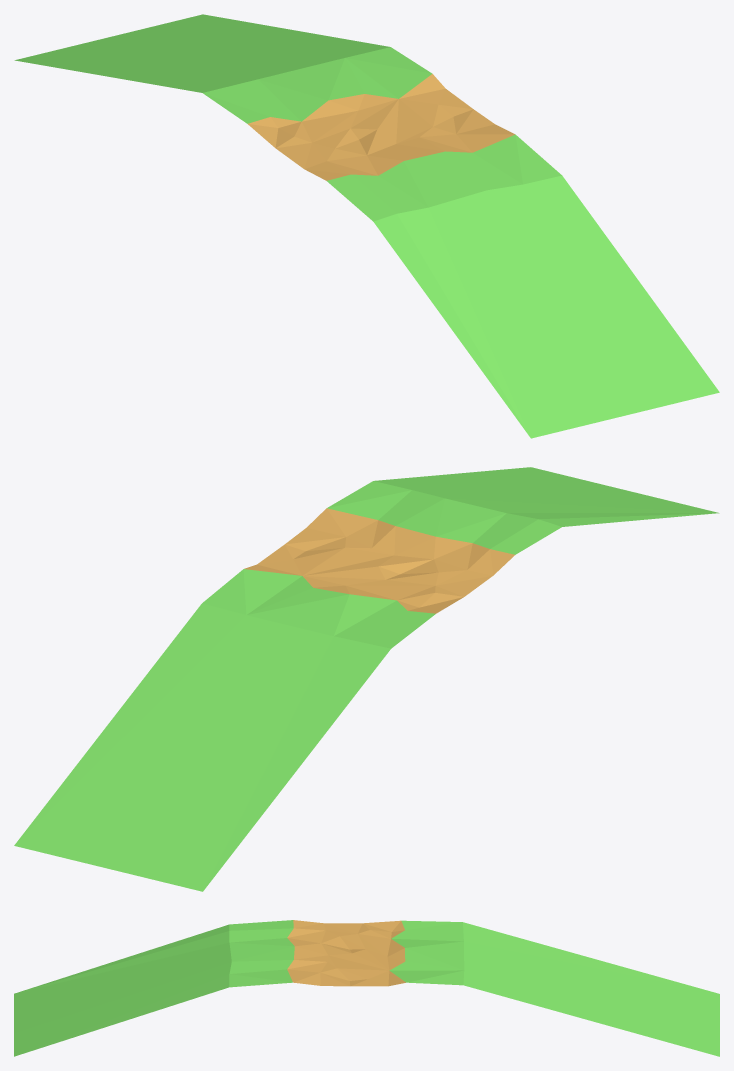
The model's file is Path03.fbx.
3 views of the same model, one above another, from view 1: azimuth 30°, elevation 25°; view 2: azimuth 150°, elevation 25°; view 3: azimuth 270°, elevation 25° (orthographic). The views are drawn at different scales.
Visible parts, largest first — view 1: Path.003; view 2: Path.003; view 3: Path.003.
Part boxes in pixels (<box>): Path.003: <box>14,14,719,438</box>; Path.003: <box>14,467,719,891</box>; Path.003: <box>14,920,719,1056</box>.
Bounding box in the file's own units: 400 × 220 × 1895.
